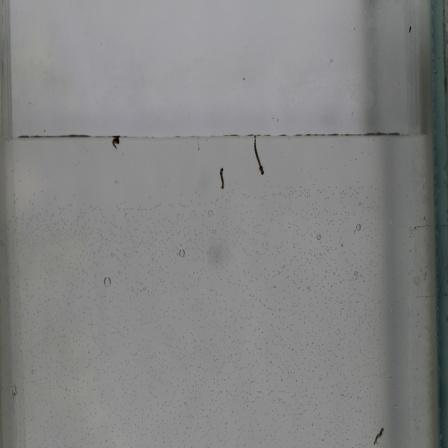Jentik-Nyamuk: (246, 134, 269, 181), (212, 164, 233, 196), (370, 424, 387, 447), (109, 136, 124, 152)
